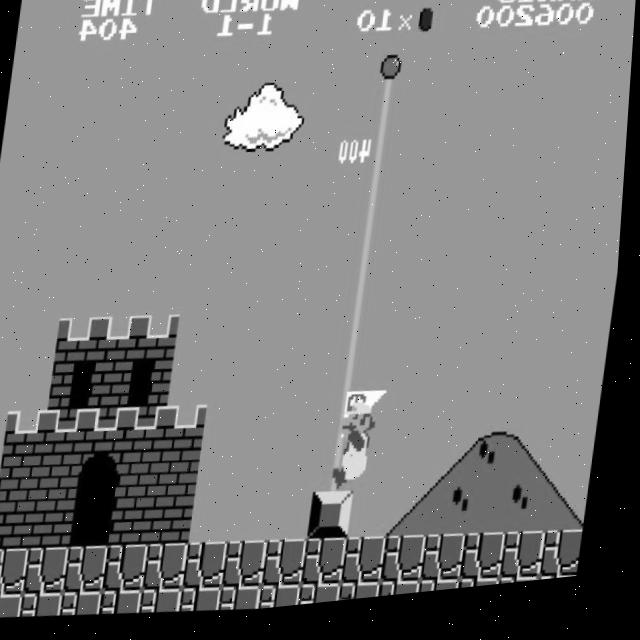1- brick_block: (36, 500, 82, 552)
17- undestructible_block: (308, 542, 355, 595), (229, 543, 276, 596), (149, 544, 196, 597), (70, 545, 117, 598), (30, 545, 77, 598), (507, 540, 554, 592), (388, 542, 435, 594), (348, 542, 395, 594), (269, 543, 316, 595), (189, 544, 236, 596), (110, 544, 156, 597), (468, 541, 514, 593), (428, 541, 474, 593), (548, 540, 591, 592), (0, 546, 37, 599), (186, 589, 231, 619), (27, 591, 72, 621), (107, 590, 151, 620), (146, 590, 191, 619), (226, 589, 270, 618), (67, 591, 111, 620), (265, 588, 310, 616), (305, 588, 350, 612), (0, 592, 32, 621), (345, 588, 389, 609), (385, 586, 429, 606), (425, 586, 469, 603), (465, 586, 509, 599), (505, 585, 549, 596)
4- fire_mario: (338, 399, 392, 500)
7- goal_pole: (364, 83, 411, 136), (342, 267, 389, 320), (370, 38, 417, 90), (353, 175, 400, 227), (331, 359, 378, 411), (348, 221, 394, 274), (336, 313, 383, 364), (320, 451, 366, 503), (359, 130, 405, 181), (326, 405, 372, 456)
9- hard_block: (314, 496, 361, 549)
